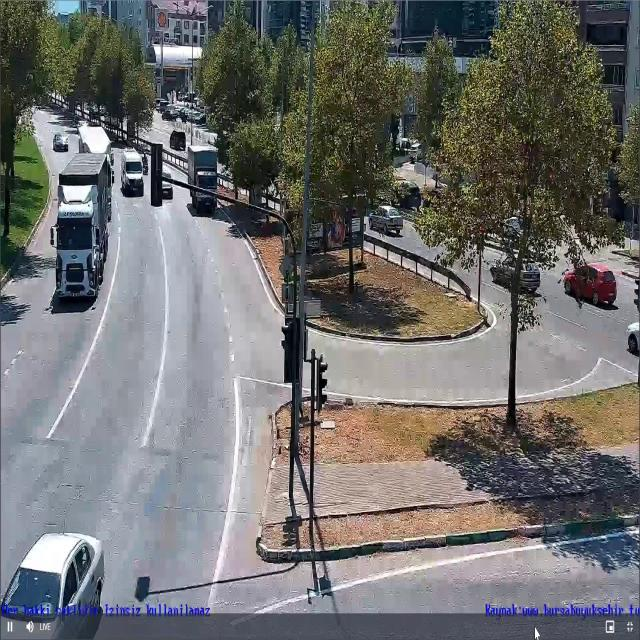car: (1, 528, 105, 640), (560, 262, 616, 310)
